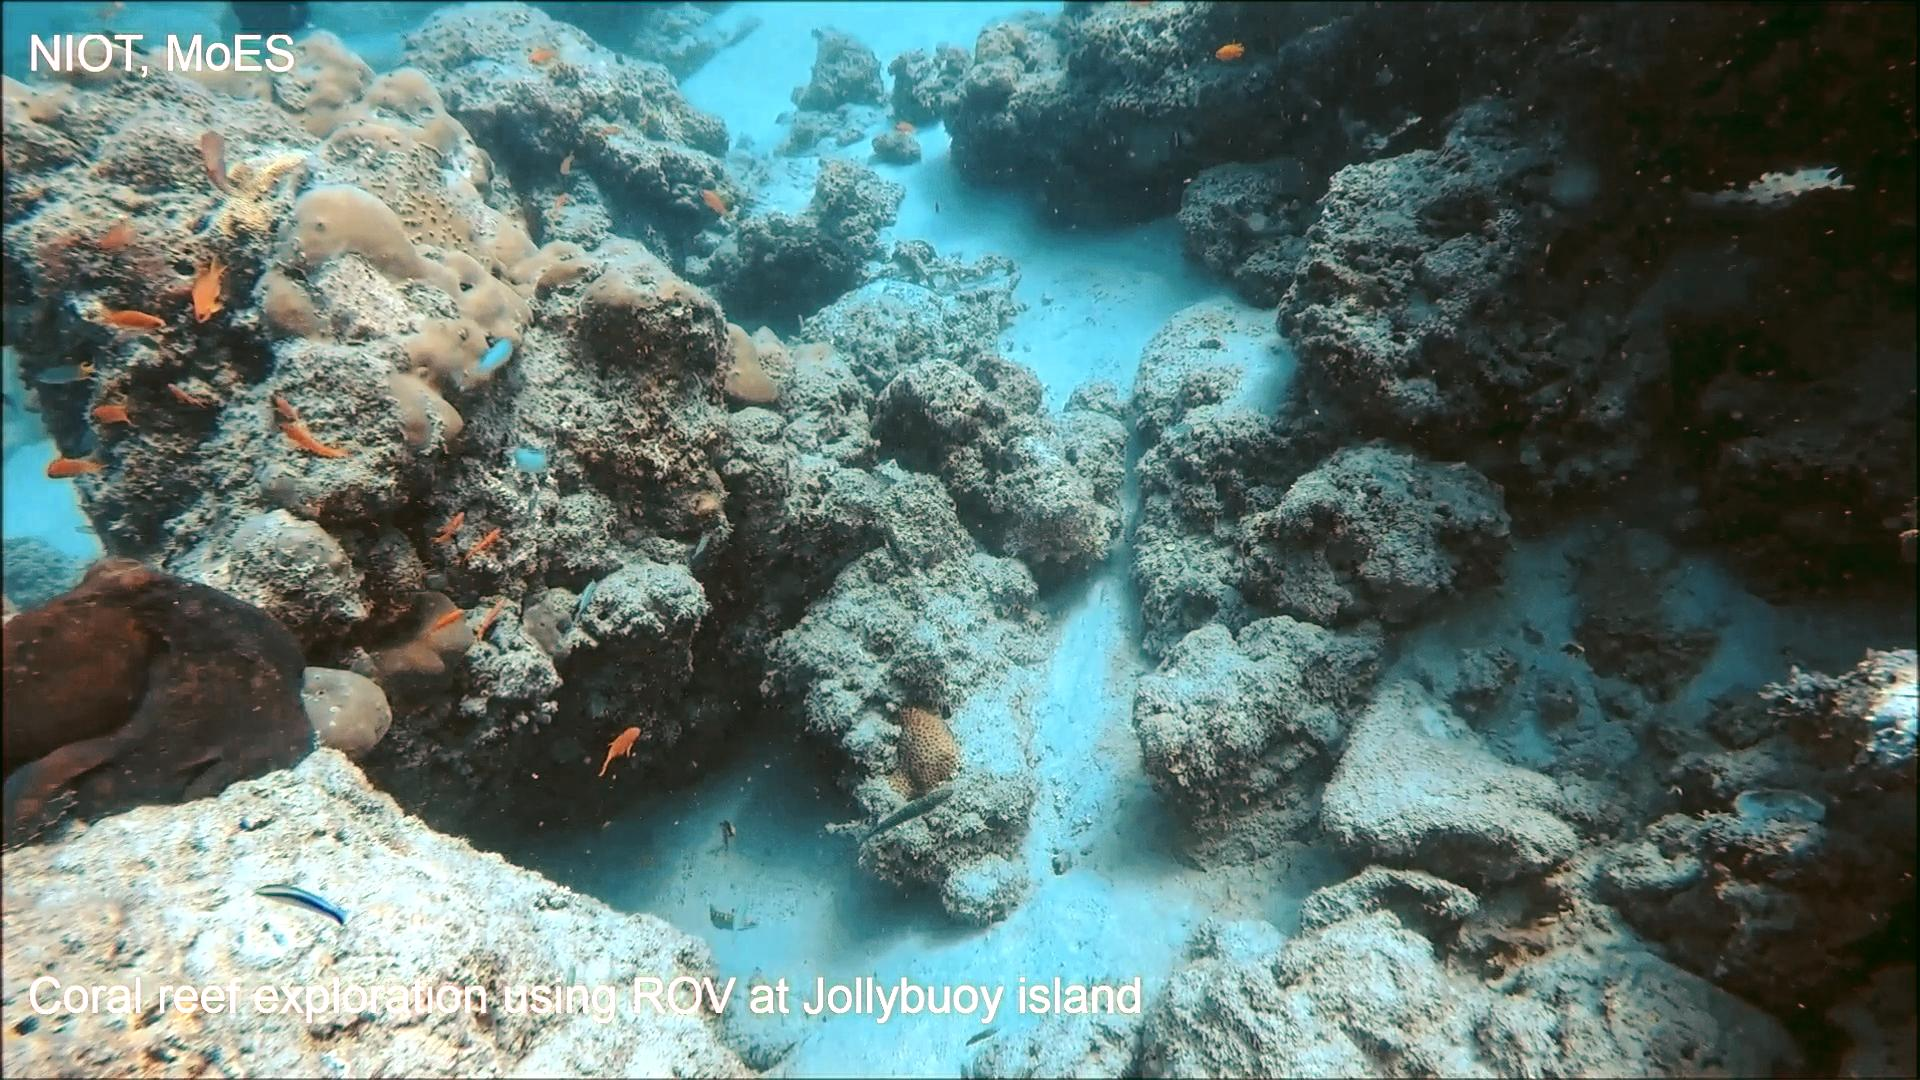Porites-Porites pukoensis: (212, 22, 600, 464)
